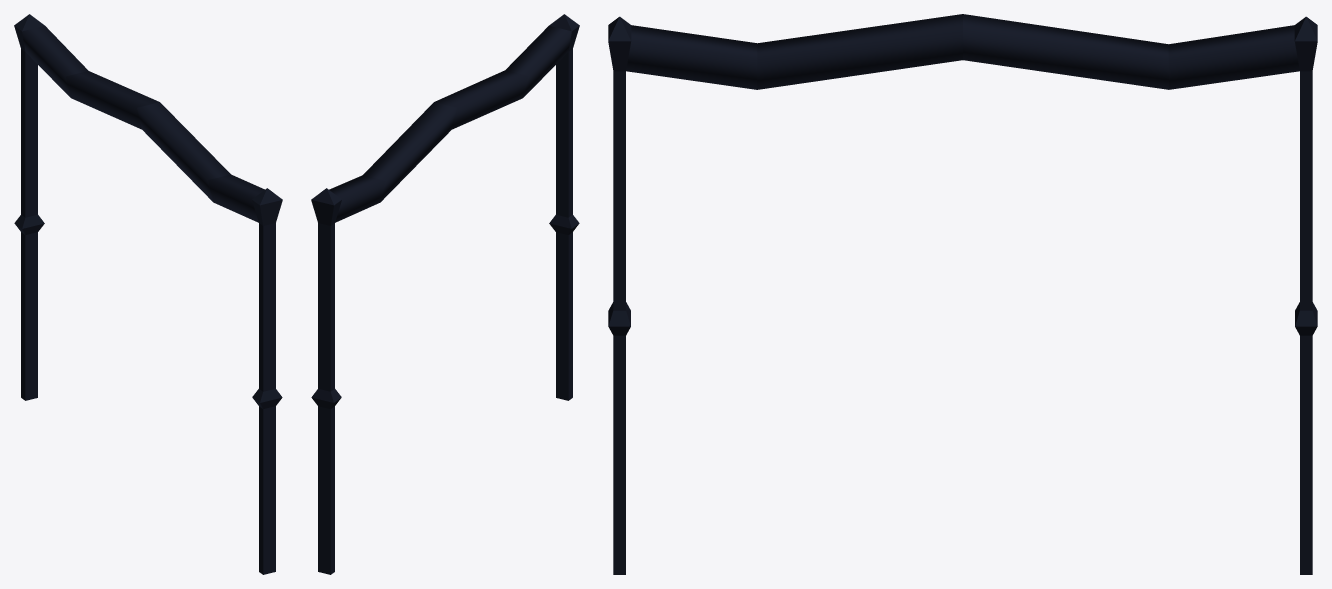
File: BigClothGate.obj
3 views of the same model, side by side, from view 1: azimuth 30°, elevation 25°; view 2: azimuth 150°, elevation 25°; view 3: azimuth 270°, elevation 25° (orthographic). The views are drawn at different scales.
Parts seen in each view (by area): view 1: 立方体.001; view 2: 立方体.001; view 3: 立方体.001.
Boxes of the visible parts, x1,y1,x2,y2 form: 立方体.001: (14, 14, 282, 574); 立方体.001: (311, 14, 579, 574); 立方体.001: (608, 14, 1317, 574).
Size of the model in its own units: 0.3356 by 5.33 by 6.18.
Materials: 1 (1 with a texture image).
